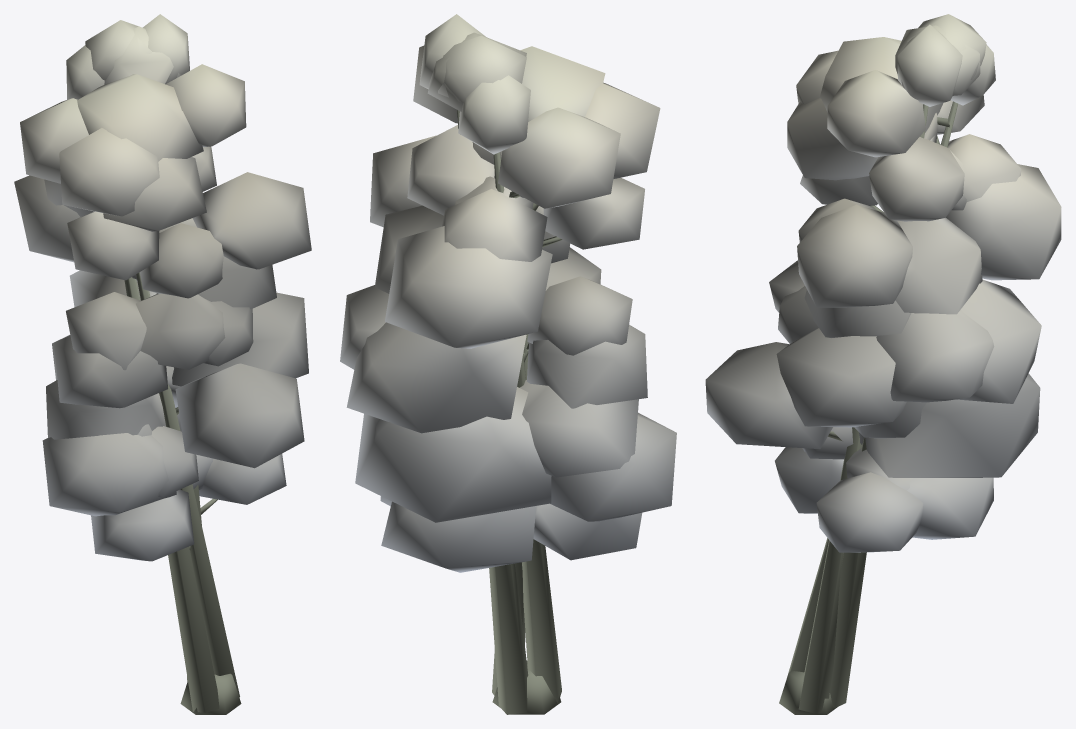
The picture shows the model from 3 angles, left to right: view 1: azimuth 30°, elevation 25°; view 2: azimuth 150°, elevation 25°; view 3: azimuth 270°, elevation 25°; orthographic projection. The views are drawn at different scales.
Parts seen in each view (by area): view 1: crown, trunk; view 2: crown, trunk; view 3: crown, trunk.
Part boxes in pixels (x1,y1,x2,y2): crown: (14,14,311,561); trunk: (124,272,241,714); crown: (340,14,676,572); trunk: (457,110,562,714); crown: (705,14,1061,552); trunk: (779,101,957,714).
Bounding box in the file's own units: 5.16 × 12.34 × 5.83.
